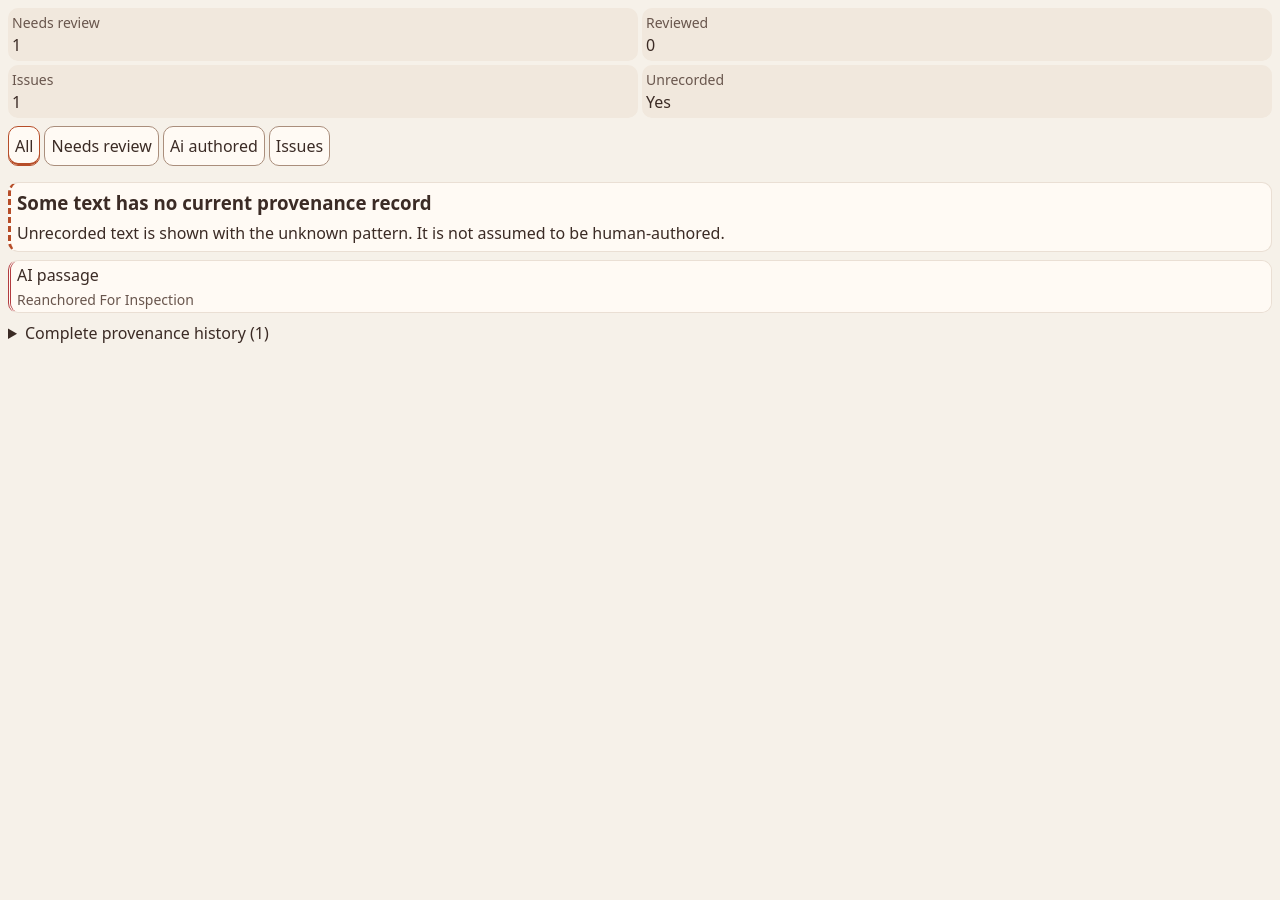
Test: ProvenancePanel › keeps Mark reviewed discoverable but disabled with a specific reason
Click the button "AI passage Reanchored for inspection" at (58, 275), box [11, 261, 1271, 312]
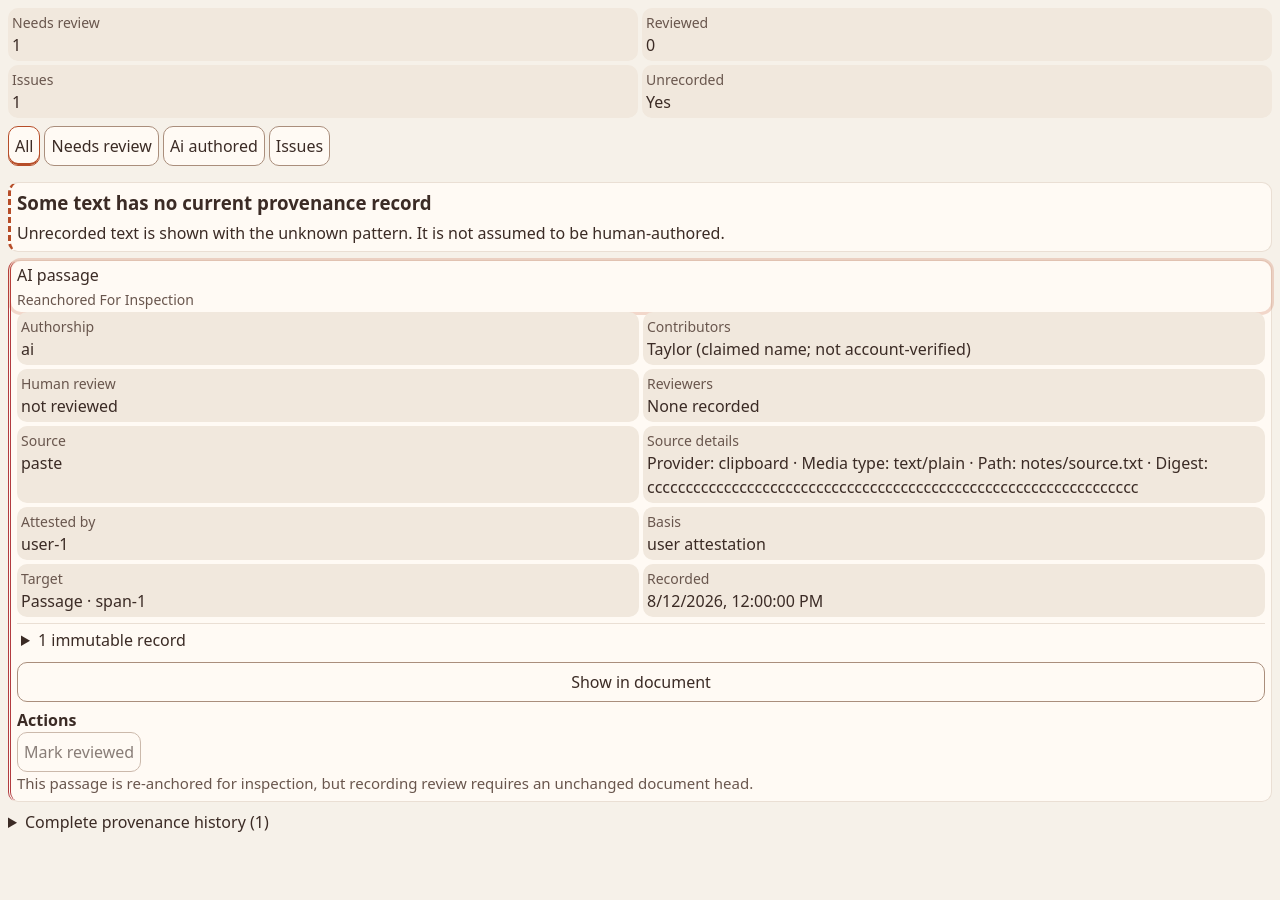
Check: the button "Mark reviewed" is disabled, box [17, 732, 141, 772]
Check: the text "re-anchored for inspection" is shown, box [17, 773, 753, 793]
